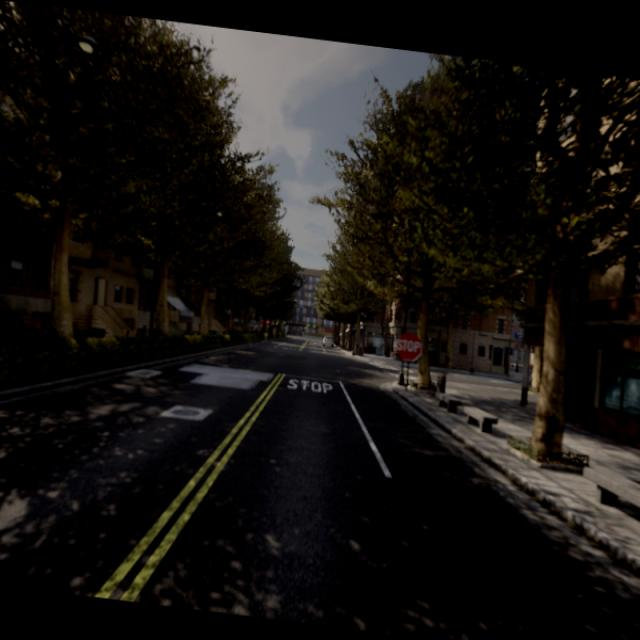stop sign: (393, 328, 424, 364)
